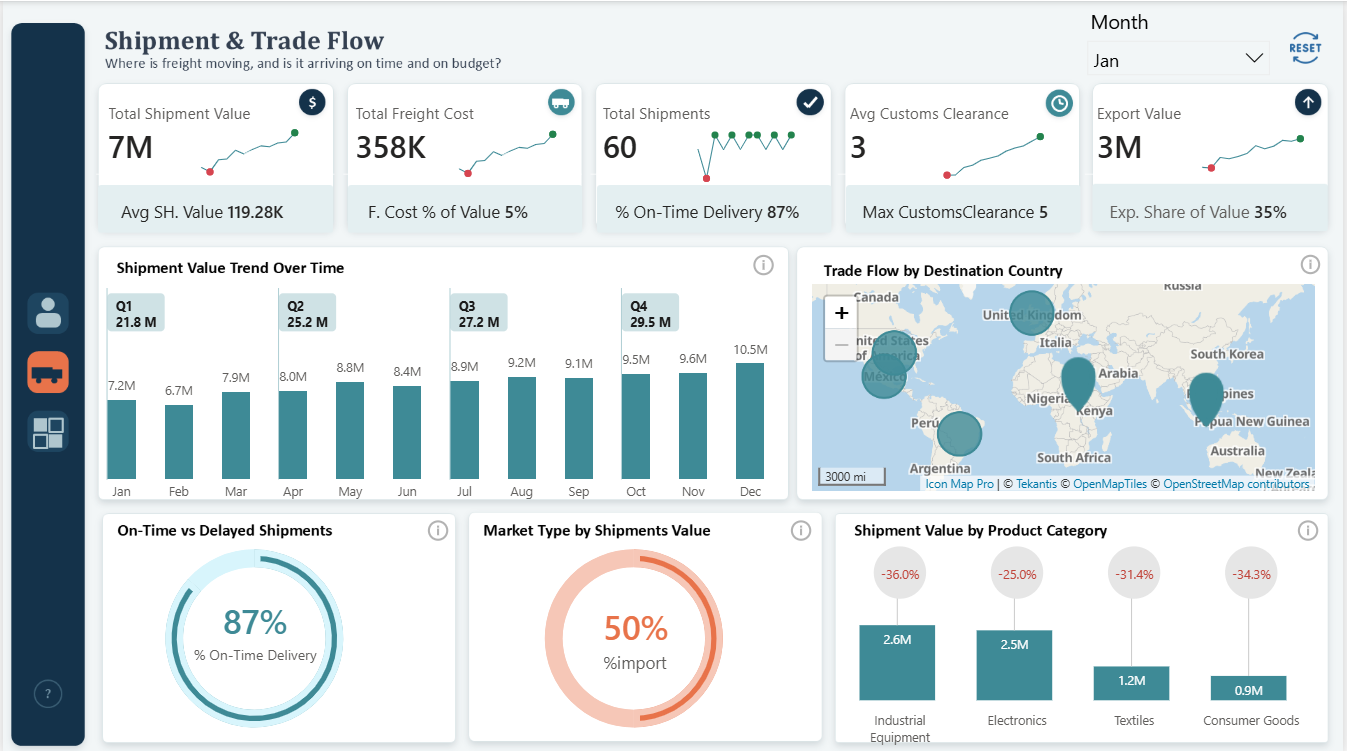

What the dashboard file says about the page in this screenshot:
{"tool":"powerbi","page":{"name":"Shipment","canvas":[1280,720],"ordinal":1},"visuals":[{"type":"cardVisual","fields":{"Data":["Measures_.Total Shipment Value","Measures_.Total Freight Cost","Measures_.Total Shipments","Measures_.Avg Customs Clearance (Days)","Measures_.Export Value"]},"box":[71.2,72.7,1208.3,183.2],"z":0},{"type":"donutChart","fields":{"Y":["Measures_.% On-Time Delivery","Measures_.%Delay"]},"box":[59.1,496.7,361.9,222.6],"z":1000},{"type":"cardVisual","fields":{"Data":["Measures_.% On-Time Delivery"]},"box":[137.8,536,207.4,130.2],"z":2000},{"type":"donutChart","fields":{"Y":["Measures_.%import","Measures_.Export"]},"box":[420.9,496.7,361.9,222.6],"z":3000},{"type":"cardVisual","fields":{"Data":["Measures_.%import"]},"box":[543.6,554.2,131.7,109],"z":4000},{"type":"iconMapProE938B1CED4834168A55864E1F8E7242E","fields":{"Longitude":["Avg(Dim_Location.D_Longitude)"],"Latitude":["Avg(Dim_Location.D_Latitude)"],"category":["Dim_Location.D_Country"],"Size":["Measures_.Total Shipment Value"]},"box":[767.7,265,489.1,207.4],"z":5000},{"type":"lineClusteredColumnComboChart","fields":{"Category":["Fact_Shipments.product_category"],"Y":["Measures_.Total Shipment Value"],"Y2":["Measures_.Bubble POS","Measures_.Bubble lbl"]},"box":[745,496.1,535.1,222.8],"z":6000},{"type":"clusteredColumnChart","fields":{"Category":["Calendar.MonthShort"],"Y":["Measures_.Monthly Max","Measures_.Total Shipment Value","Measures_.Monthly Max 2"]},"box":[59.1,230.2,708.6,255.9],"z":7000},{"type":"actionButton","box":[1234.5,237.5,34.2,27.7],"z":8000},{"type":"actionButton","box":[1232.6,490.6,33.3,28.8],"z":9000},{"type":"actionButton","box":[748,490.6,33.3,28.8],"z":10000},{"type":"actionButton","box":[401.3,490.6,33.3,28.8],"z":11000},{"type":"actionButton","box":[711.7,237.7,33.3,28.8],"z":12000},{"type":"lineChart","fields":{"Category":["Calendar.MonthNumber"],"Y":["Measures_.Total Shipment Value","select","select1"]},"box":[166.6,95.4,151.4,80.3],"z":13000},{"type":"lineChart","fields":{"Category":["Calendar.MonthNumber"],"Y":["Measures_.Total Freight Cost","select","select1"]},"box":[411.9,96.9,151.4,80.3],"z":14000},{"type":"lineChart","fields":{"Category":["Calendar.MonthNumber"],"Y":["Measures_.Total Shipments","select","select1"]},"box":[640.5,110.5,151.4,68.1],"z":15000},{"type":"lineChart","fields":{"Category":["Calendar.MonthNumber"],"Y":["Measures_.Avg Customs Clearance","select","select1"]},"box":[878.2,109,151.4,68.1],"z":16000},{"type":"lineChart","fields":{"Category":["Calendar.MonthNumber"],"Y":["Measures_.Export Value","select","select1"]},"box":[1122,109,157.5,68.1],"z":17000},{"type":"slicer","title":"Month","fields":{"Values":["Calendar.MonthShort"]},"box":[1025.1,1.5,193.8,71.2],"z":18000},{"type":"actionButton","box":[1223.5,22.7,42.4,43.9],"z":19000},{"type":"pageNavigator","box":[16.7,277.1,51.5,162],"z":20000},{"type":"cardVisual","fields":{"Data":["Measures_.Base"]},"box":[1232.6,234.7,33.3,33.3],"z":21000},{"type":"cardVisual","fields":{"Data":["Measures_.Base"]},"box":[1229.5,489.1,33.3,33.3],"z":22000},{"type":"cardVisual","fields":{"Data":["Measures_.Base"]},"box":[745,490.6,33.3,33.3],"z":23000},{"type":"cardVisual","fields":{"Data":["Measures_.Base"]},"box":[396.7,489.1,33.3,33.3],"z":24000},{"type":"cardVisual","fields":{"Data":["Measures_.Base"]},"box":[711.7,237.7,33.3,33.3],"z":25000}]}

Visuals, with their boxes on the page's 1280x720 design canvas (x1, y1, x2, y2). These are canvas units, not pixel positions in the 1347x751 screenshot, which may show the page scaled, cropped or inside an application window:
cardVisual - Measures_.Total Shipment Value x Measures_.Total Freight Cost: l=71, t=73, r=1280, b=256
donutChart - Measures_.% On-Time Delivery x Measures_.%Delay: l=59, t=497, r=421, b=719
cardVisual - Measures_.% On-Time Delivery: l=138, t=536, r=345, b=666
donutChart - Measures_.%import x Measures_.Export: l=421, t=497, r=783, b=719
cardVisual - Measures_.%import: l=544, t=554, r=675, b=663
iconMapProE938B1CED4834168A55864E1F8E7242E - Avg(Dim_Location.D_Longitude) x Avg(Dim_Location.D_Latitude): l=768, t=265, r=1257, b=472
lineClusteredColumnComboChart - Fact_Shipments.product_category x Measures_.Total Shipment Value: l=745, t=496, r=1280, b=719
clusteredColumnChart - Calendar.MonthShort x Measures_.Monthly Max: l=59, t=230, r=768, b=486
actionButton: l=1234, t=238, r=1269, b=265
actionButton: l=1233, t=491, r=1266, b=519
actionButton: l=748, t=491, r=781, b=519
actionButton: l=401, t=491, r=435, b=519
actionButton: l=712, t=238, r=745, b=266
lineChart - Calendar.MonthNumber x Measures_.Total Shipment Value: l=167, t=95, r=318, b=176
lineChart - Calendar.MonthNumber x Measures_.Total Freight Cost: l=412, t=97, r=563, b=177
lineChart - Calendar.MonthNumber x Measures_.Total Shipments: l=640, t=110, r=792, b=179
lineChart - Calendar.MonthNumber x Measures_.Avg Customs Clearance: l=878, t=109, r=1030, b=177
lineChart - Calendar.MonthNumber x Measures_.Export Value: l=1122, t=109, r=1280, b=177
"Month" slicer: l=1025, t=2, r=1219, b=73
actionButton: l=1224, t=23, r=1266, b=67
pageNavigator: l=17, t=277, r=68, b=439
cardVisual - Measures_.Base: l=1233, t=235, r=1266, b=268
cardVisual - Measures_.Base: l=1230, t=489, r=1263, b=522
cardVisual - Measures_.Base: l=745, t=491, r=778, b=524
cardVisual - Measures_.Base: l=397, t=489, r=430, b=522
cardVisual - Measures_.Base: l=712, t=238, r=745, b=271
